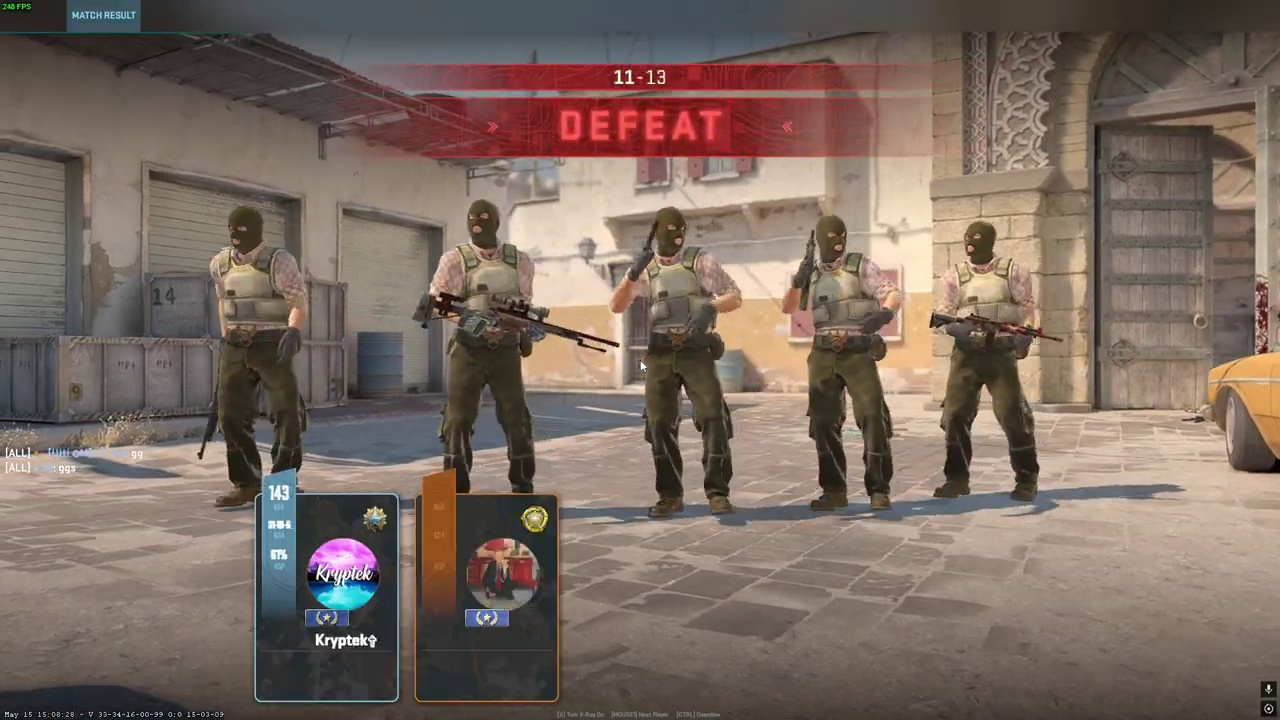Terrorist: (428, 198, 543, 494), (632, 206, 737, 518), (203, 204, 310, 510), (933, 219, 1044, 507), (797, 215, 896, 514)
